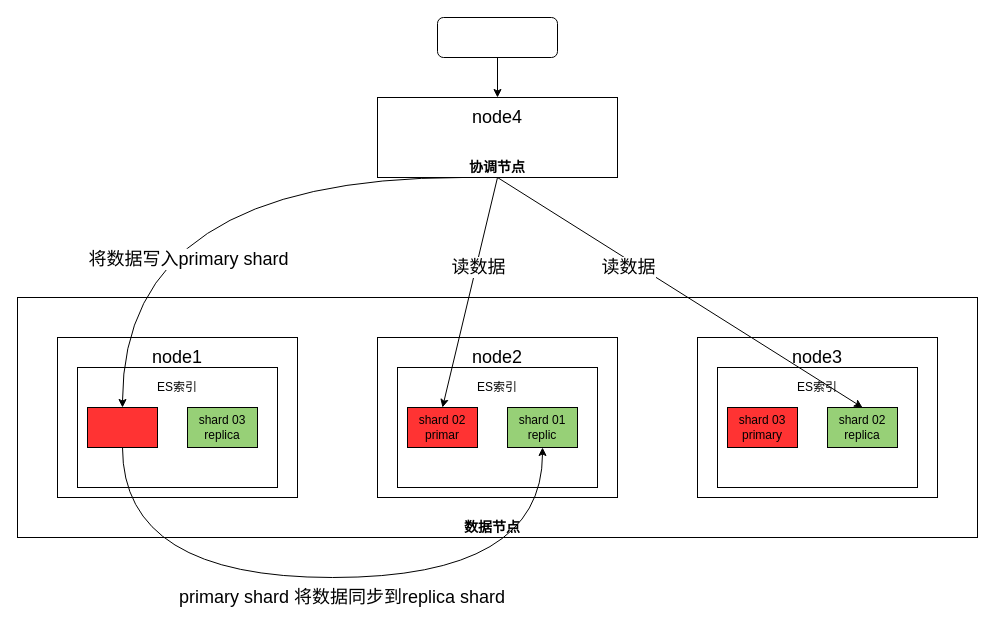
The diagram is 995 pixels wide and 626 high, and some of its shapes have lost their labels. The box of each missing label's shape, as (x1, y1, x2, y2) in pixels:
shard 01 primary: (86, 406, 158, 448)
客户端: (436, 16, 558, 58)
